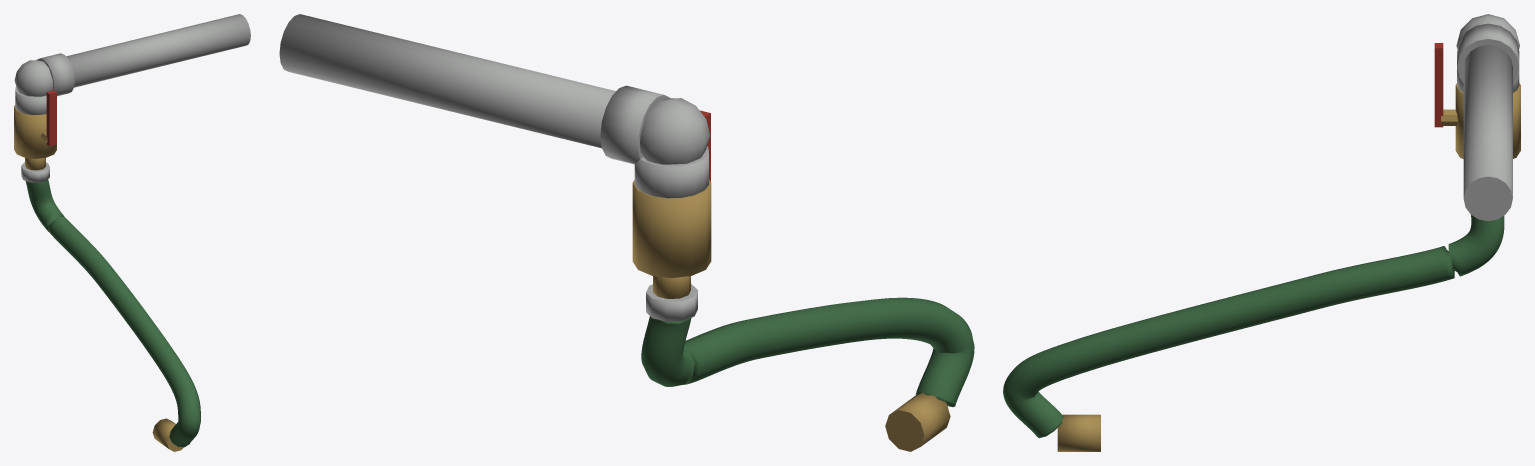
The model's file is barrel_fill_low_bend1.obj.
3 renders of one model, left to right at view 1: azimuth 30°, elevation 25°; view 2: azimuth 150°, elevation 25°; view 3: azimuth 270°, elevation 25°, orthographic. The views are drawn at different scales.
Visible parts, largest first — view 1: hose, pipe2, valve_body, elbow_hub, elbow_socket2, elbow_socket1, valve_lever, nozzle, hose_collar; view 2: pipe2, hose, valve_body, elbow_hub, elbow_socket2, nozzle, elbow_socket1, hose_collar, hose_barb; view 3: hose, pipe2, elbow_socket2, nozzle, valve_body, valve_lever, elbow_hub.
Boxes of the visible parts, x1,y1,x2,y2 form: hose: (25,179,200,447); pipe2: (66,14,250,87); valve_body: (14,105,56,158); elbow_hub: (14,60,52,96); elbow_socket2: (36,53,74,96); elbow_socket1: (15,86,46,114); valve_lever: (46,90,56,146); nozzle: (152,418,183,451); hose_collar: (21,162,49,182); pipe2: (279,14,615,148); hose: (641,297,974,407); valve_body: (632,179,711,277); elbow_hub: (640,98,709,164); elbow_socket2: (600,85,670,164); nozzle: (885,392,950,451); elbow_socket1: (634,146,708,198); hose_collar: (646,284,697,321); hose_barb: (653,276,690,298); hose: (1003,215,1504,438); pipe2: (1463,44,1512,220); elbow_socket2: (1457,23,1519,82); nozzle: (1057,414,1100,451); valve_body: (1455,83,1520,158); valve_lever: (1434,43,1443,127); elbow_hub: (1456,14,1519,49).
Size of the model in its own units: 0.545 by 0.6586 by 0.7142.
Materials: 4 (4 with a texture image).
